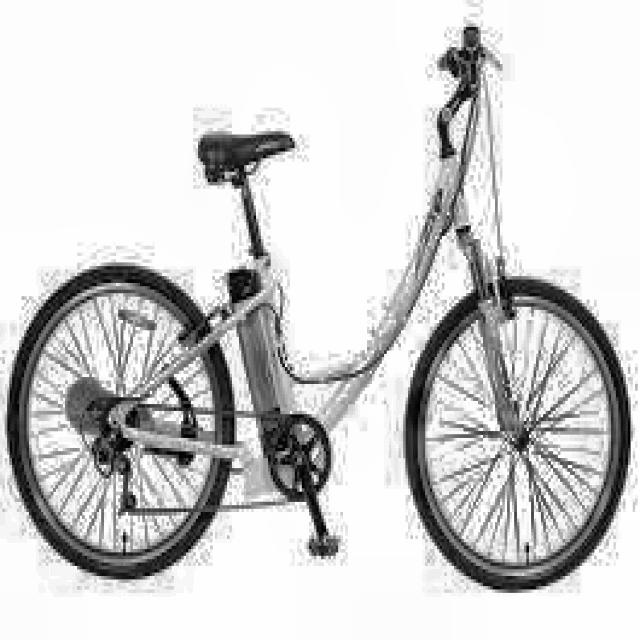bicycle: (6, 21, 636, 602)
